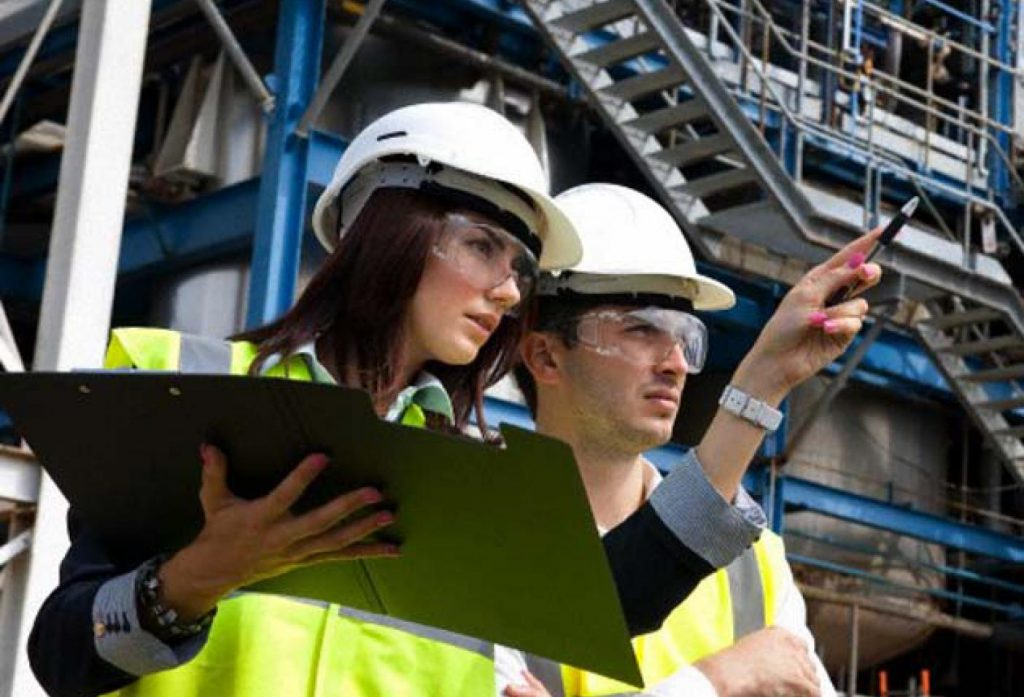casco: (310, 99, 585, 272), (535, 182, 737, 312)
